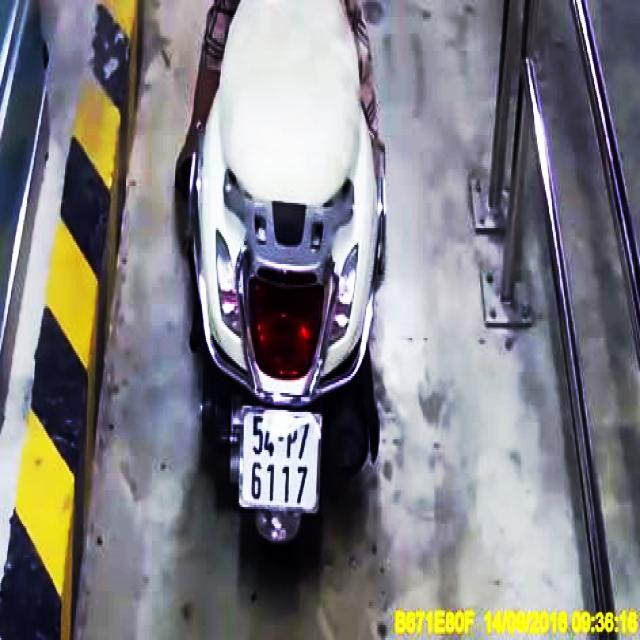license_plate: (239, 406, 324, 515)
